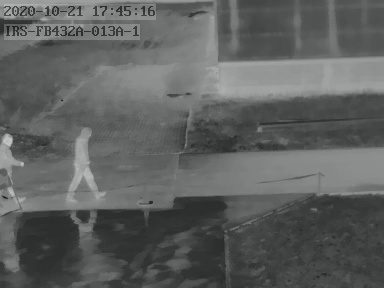person: (66, 126, 106, 201), (1, 132, 26, 203)
